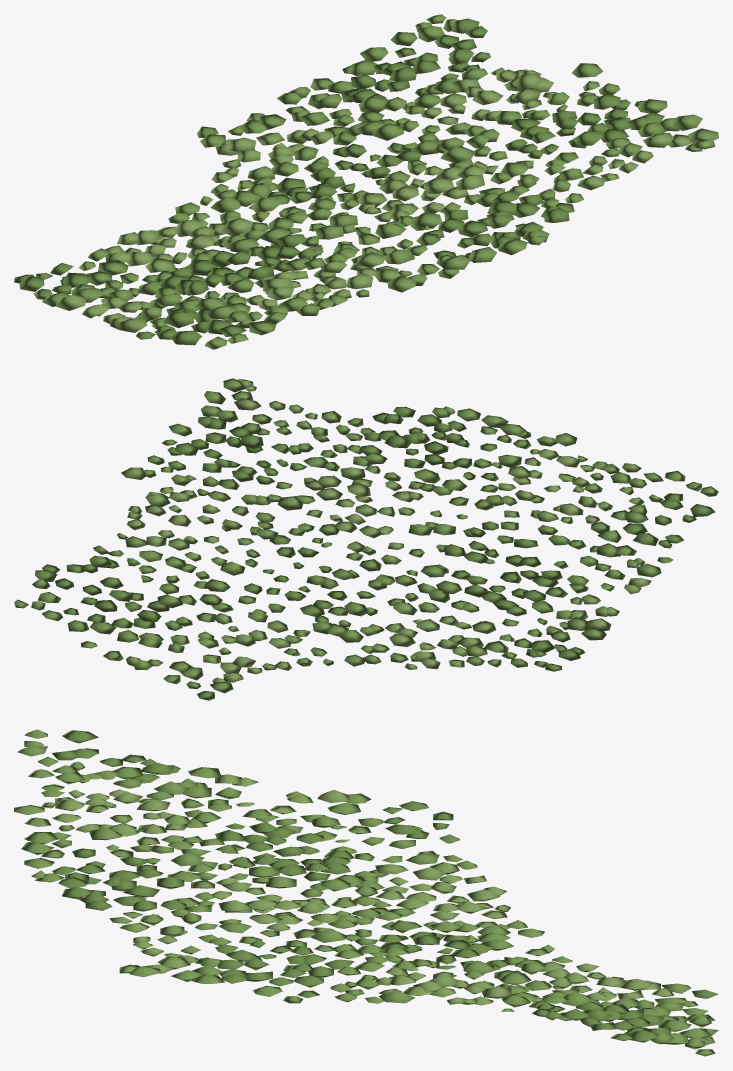
The model's file is canopy-1-4-2.glb.
3 views of the same model, one above another, from view 1: azimuth 30°, elevation 25°; view 2: azimuth 150°, elevation 25°; view 3: azimuth 270°, elevation 25° (orthographic). The views are drawn at different scales.
Size of the model in its own units: 522 by 122 by 518.
1 material, 1 textured.
